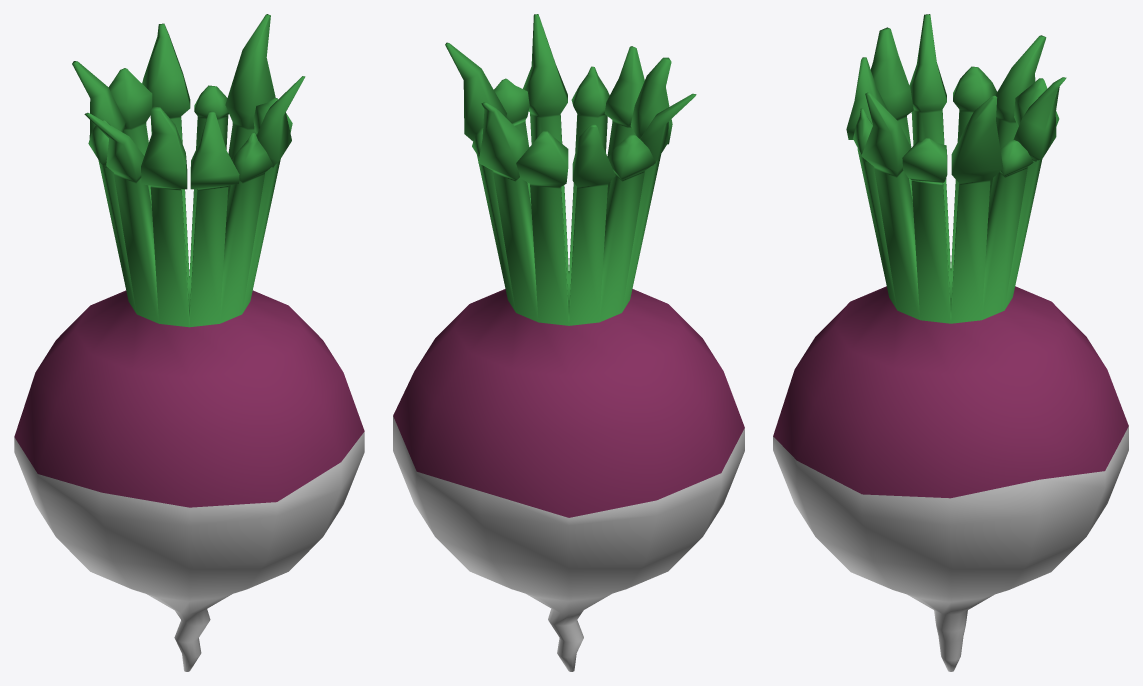
File: NaboModel.glb
The picture shows the model from 3 angles, left to right: view 1: azimuth 30°, elevation 25°; view 2: azimuth 150°, elevation 25°; view 3: azimuth 270°, elevation 25°; orthographic projection.
Parts seen in each view (by area): view 1: Nabo; view 2: Nabo; view 3: Nabo.
Boxes of the visible parts, left/top/right/bottom form: Nabo: left=14, top=14, right=364, bottom=671; Nabo: left=393, top=14, right=744, bottom=671; Nabo: left=773, top=14, right=1128, bottom=671.
Bounding box in the file's own units: 0.7849 × 1.52 × 0.7849.
